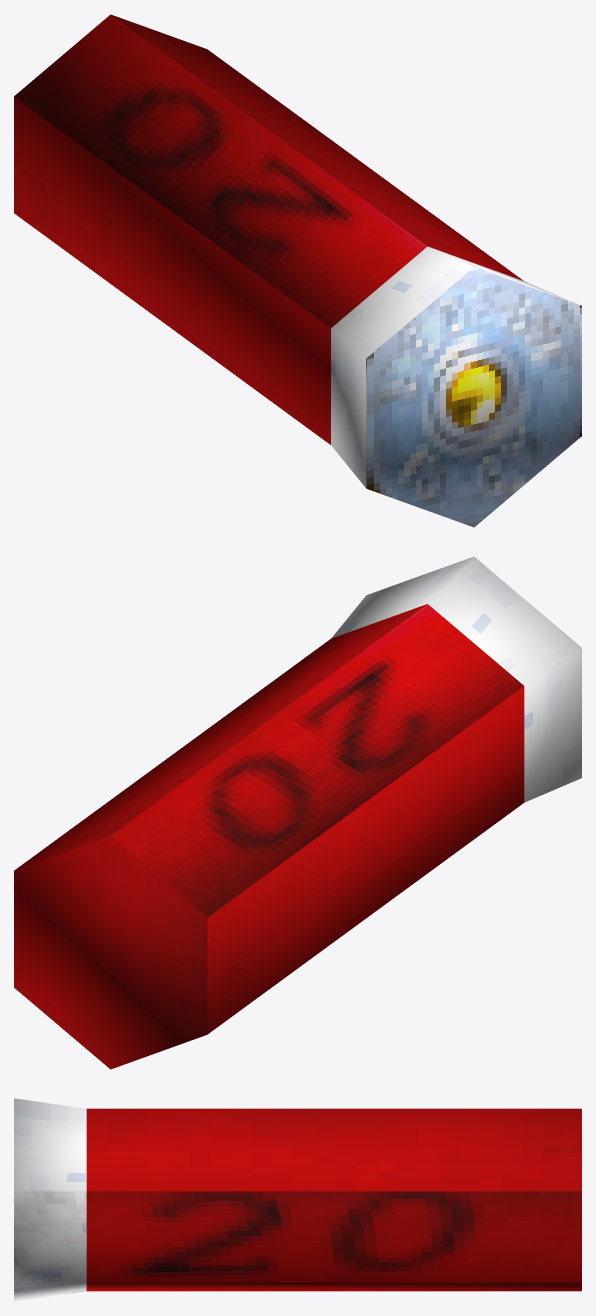
Rendered from shell.glb.
3 views of the same model, one above another, from view 1: azimuth 30°, elevation 25°; view 2: azimuth 150°, elevation 25°; view 3: azimuth 270°, elevation 25° (orthographic). The views are drawn at different scales.
Visible parts, largest first — view 1: Shell; view 2: Shell; view 3: Shell.
Boxes of the visible parts, x1,y1,x2,y2 form: Shell: (14,14,581,527); Shell: (14,556,581,1069); Shell: (14,1098,581,1301).
Bounding box in the file's own units: 0.0346 × 0.04 × 0.1012.
Materials: 1 (1 with a texture image).
